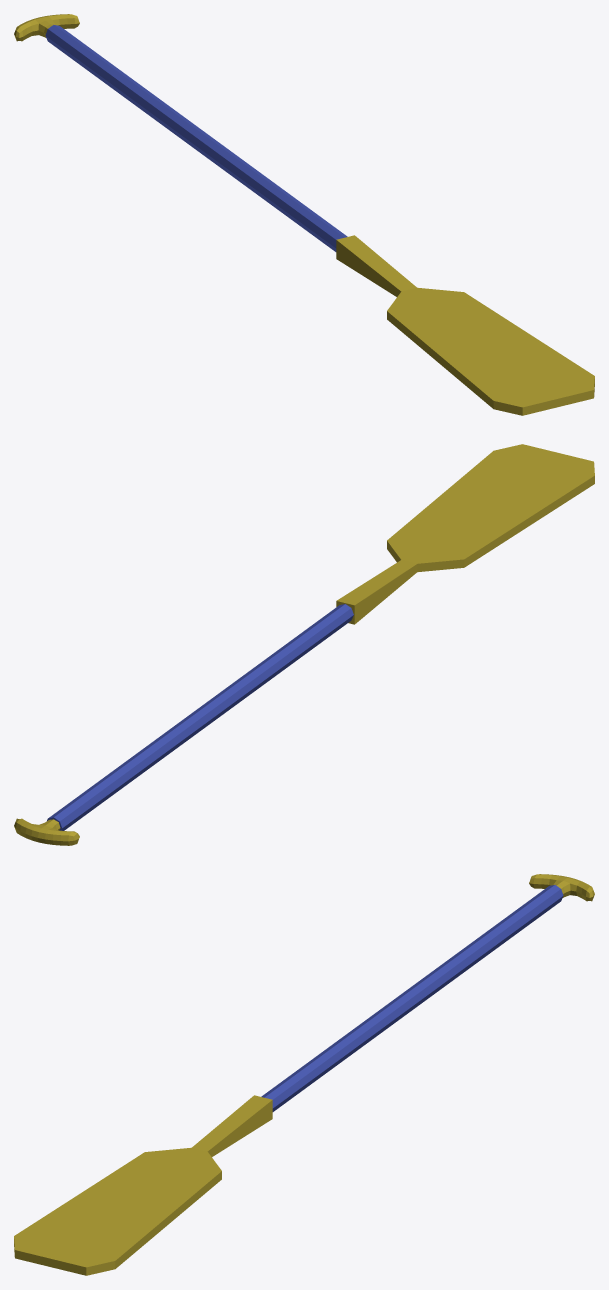
The model's file is Raft_Paddle.glb.
3 views of the same model, one above another, from view 1: azimuth 30°, elevation 25°; view 2: azimuth 150°, elevation 25°; view 3: azimuth 330°, elevation 25° (orthographic).
Visible parts, largest first — view 1: Raft_Paddle; view 2: Raft_Paddle; view 3: Raft_Paddle.
Boxes of the visible parts, x1,y1,x2,y2 form: Raft_Paddle: [14, 14, 594, 415]; Raft_Paddle: [14, 444, 594, 845]; Raft_Paddle: [14, 874, 594, 1275].
Bounding box in the file's own units: 1.67 × 0.3041 × 14.85.
